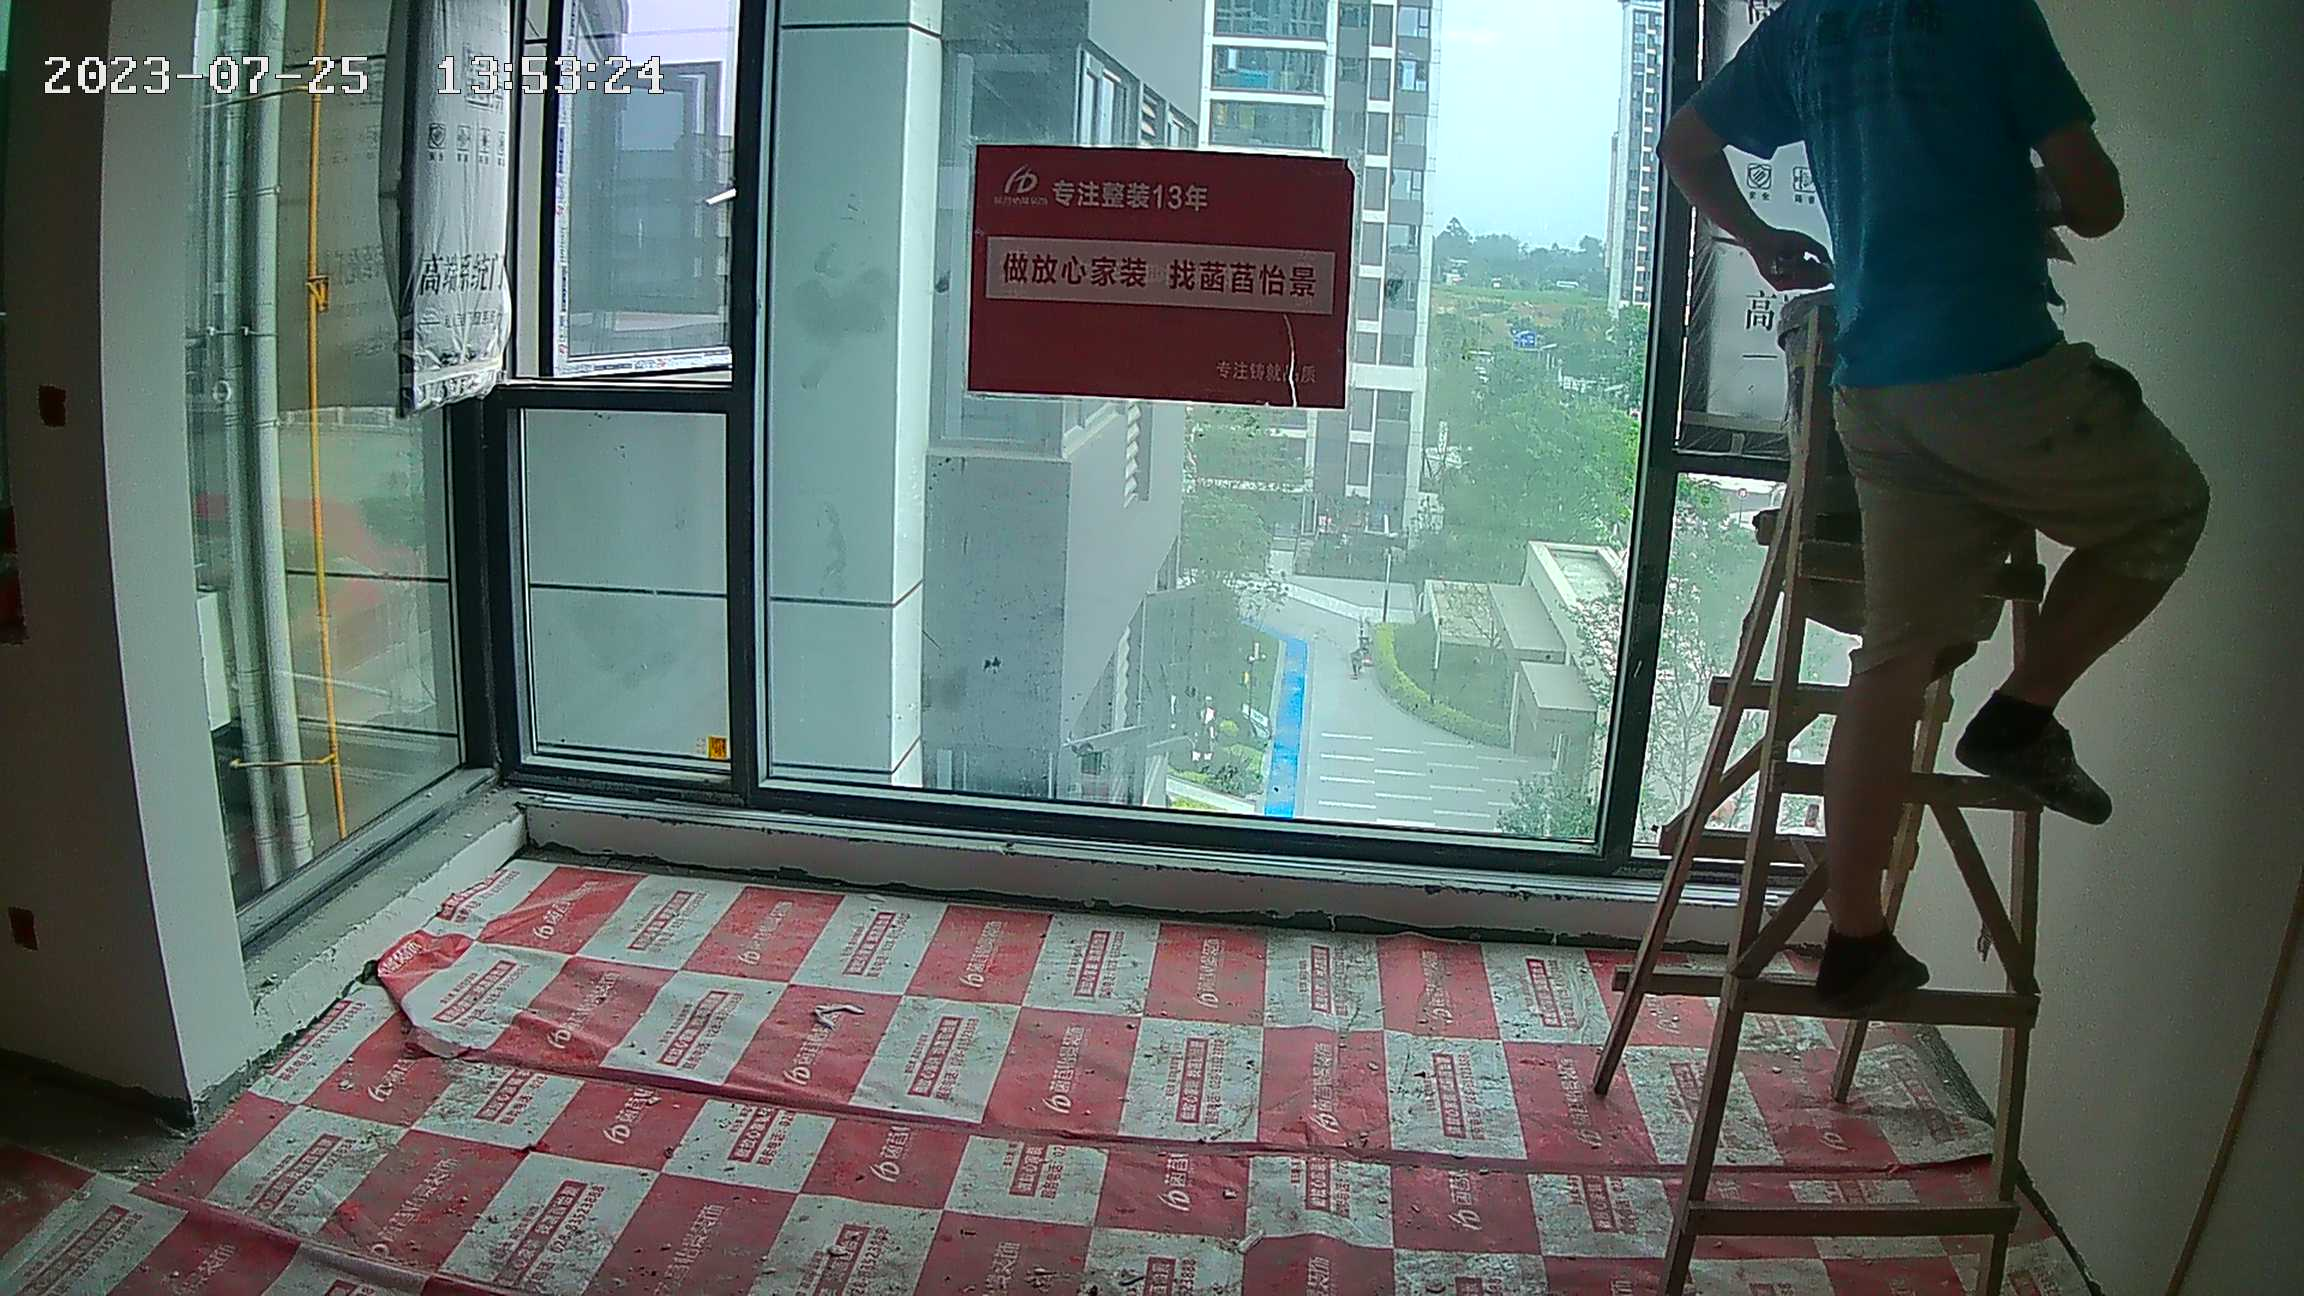people: (1659, 1, 2214, 1012)
window: (182, 5, 1882, 894)
